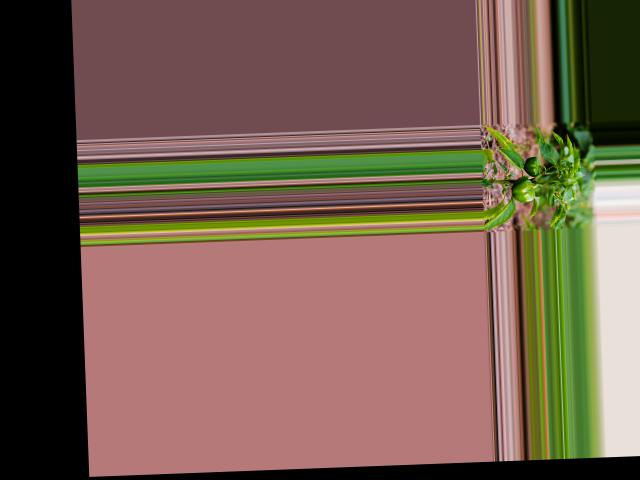bell_pepper: (522, 155, 542, 177)
